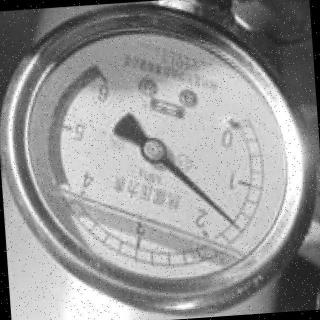gauge: (0, 0, 320, 320), (217, 104, 256, 150), (137, 136, 169, 166), (87, 61, 114, 91), (228, 218, 246, 234)
